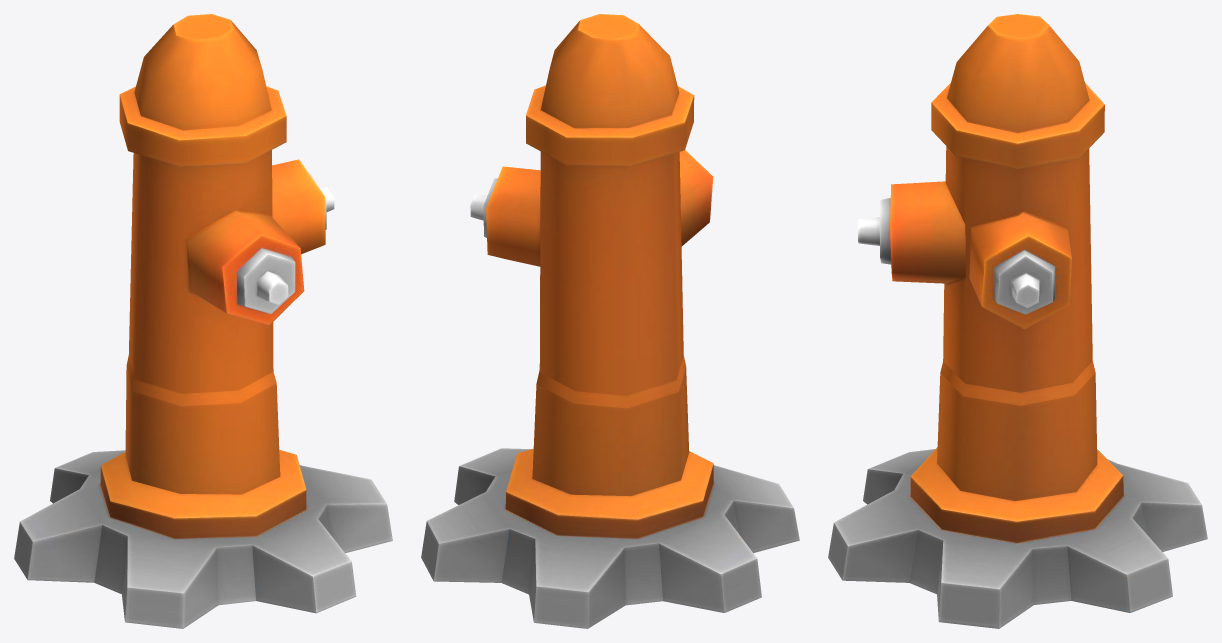
Rendered from obj_hydrant01_base.gltf.
The picture shows the model from 3 angles, left to right: view 1: azimuth 30°, elevation 25°; view 2: azimuth 150°, elevation 25°; view 3: azimuth 270°, elevation 25°; orthographic projection.
Visible parts, largest first — view 1: obj_hydrant01_base; view 2: obj_hydrant01_base; view 3: obj_hydrant01_base.
Part boxes in pixels (<box>): obj_hydrant01_base: <box>14,14,392,628</box>; obj_hydrant01_base: <box>421,14,799,628</box>; obj_hydrant01_base: <box>828,14,1207,628</box>.
Size of what is drawn, in the model's own units: 0.7201 by 1.09 by 0.7191.
Materials: 1 (1 with a texture image).
